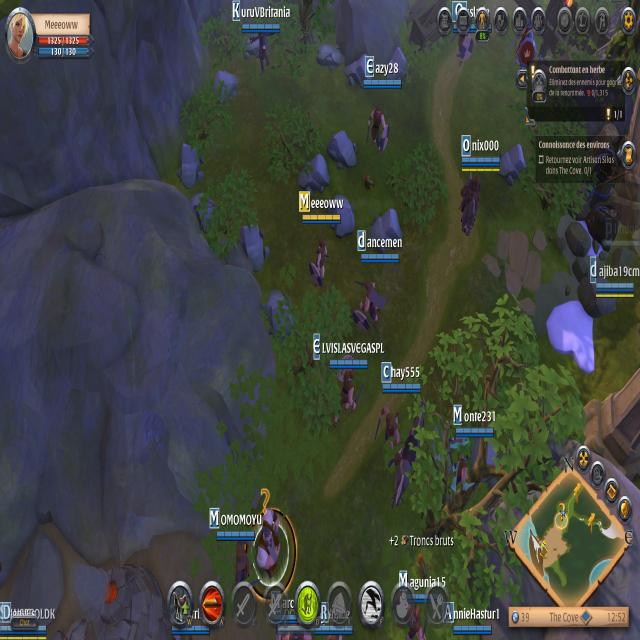broken stone: (315, 36, 346, 72)
stone: (262, 284, 296, 346), (236, 215, 270, 273), (174, 135, 207, 193), (296, 151, 331, 197), (367, 207, 403, 251), (324, 127, 360, 170), (496, 139, 528, 187), (328, 189, 358, 239), (210, 66, 240, 107), (344, 49, 373, 89), (192, 190, 217, 232), (386, 48, 406, 85)
